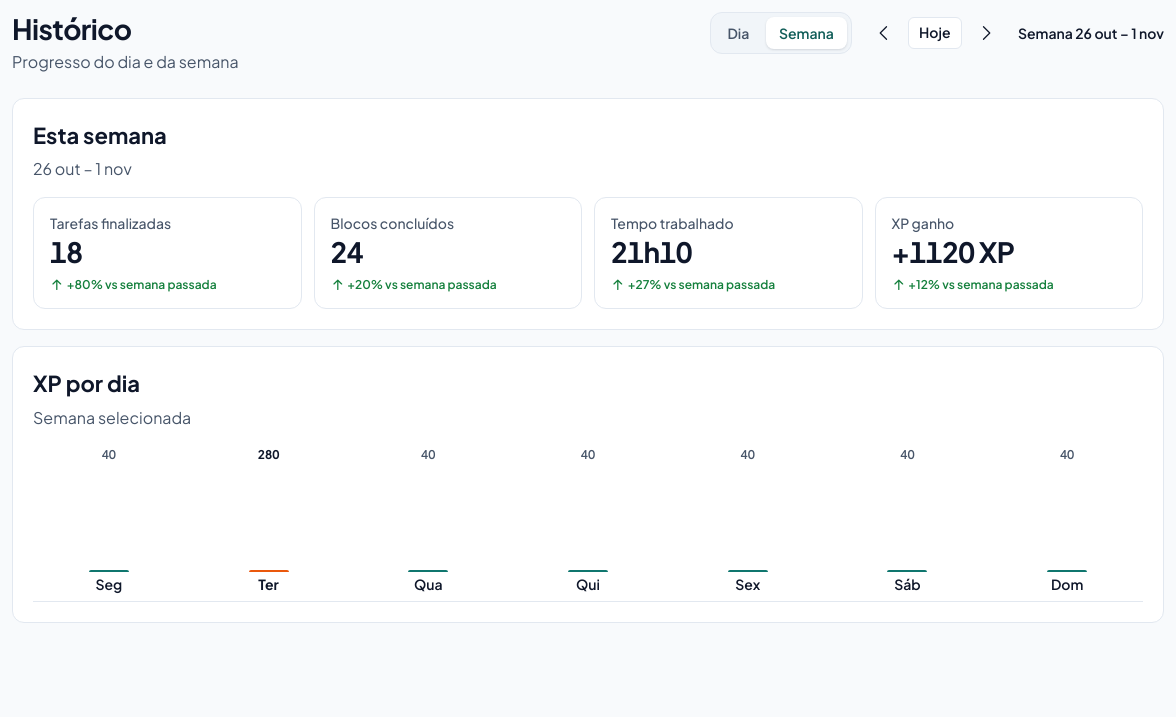
Test case: HistoricoPage (T4) › navega dia e semana com query correta
Expected: the heading "Esta semana" is shown, [33,121,167,149]
Step 1. Click the button named "semana anterior" → (884, 33), box [864,13,904,53]
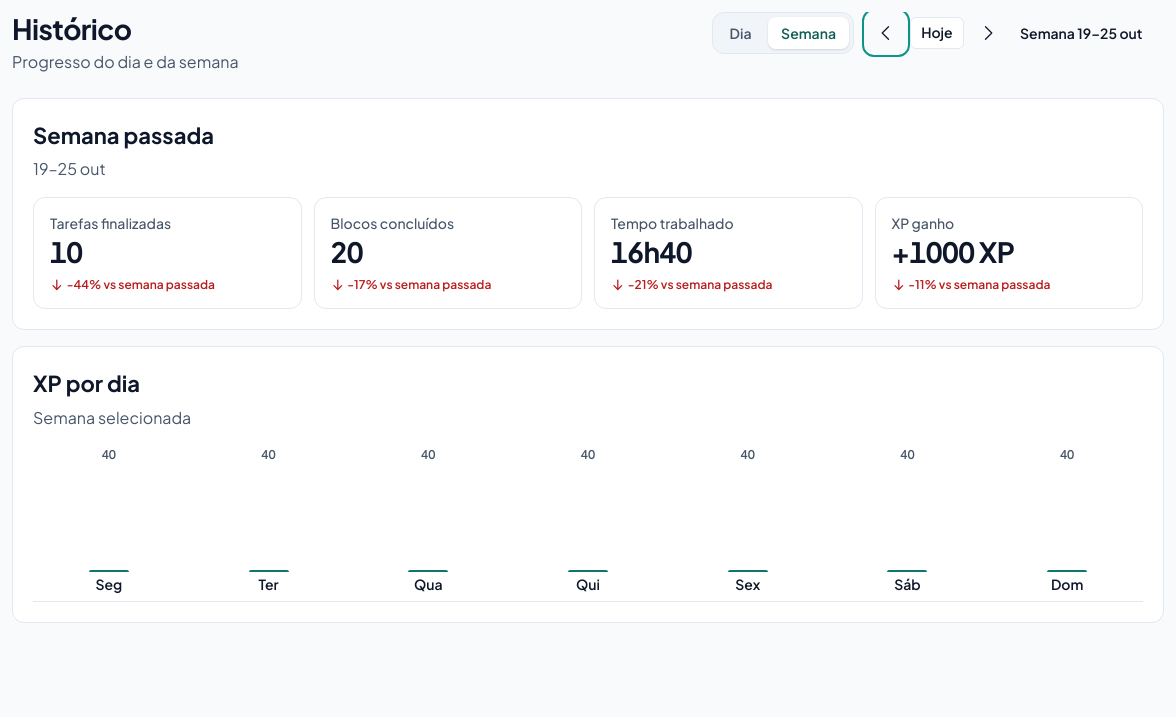
Now the heading "Semana passada" is shown, box [33,121,214,149]
Step 2. Click the radio button labelled "Dia" → (741, 33), box [717,17,764,49]
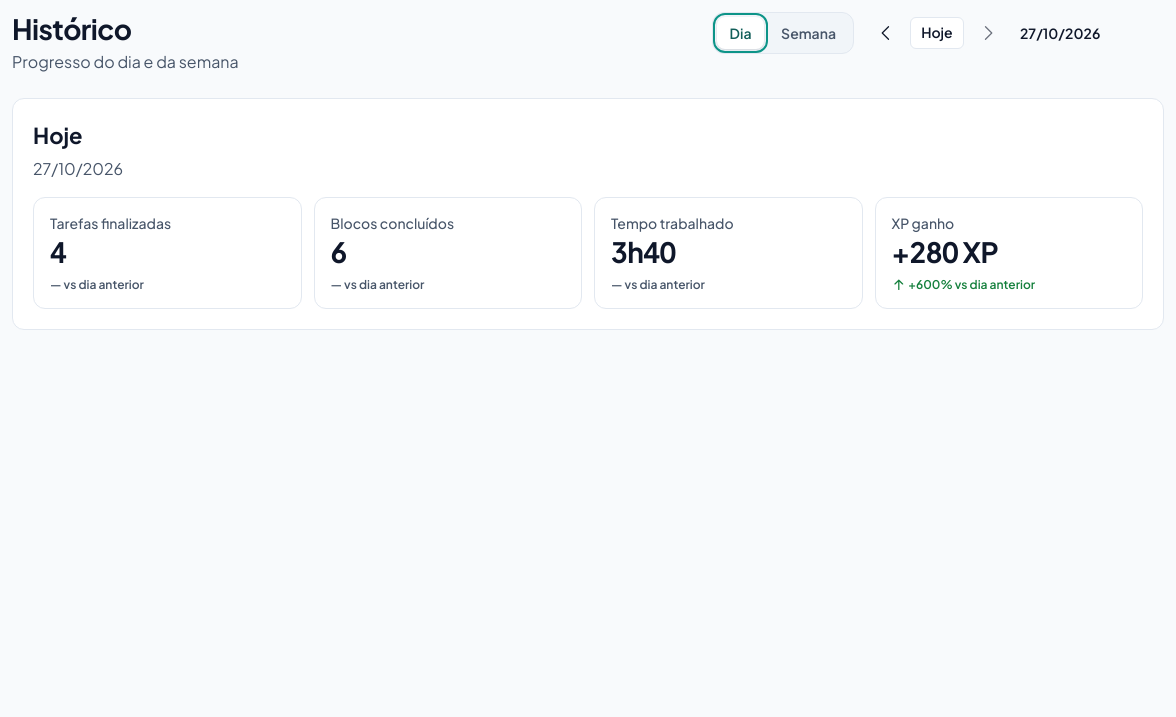
Expected: the button named "próximo dia" is disabled, [968,13,1008,53]
Now the heading "Hoje" is shown, box [33,121,82,149]
Step 3. Click the button named "dia anterior" → (886, 33), box [866,13,906,53]
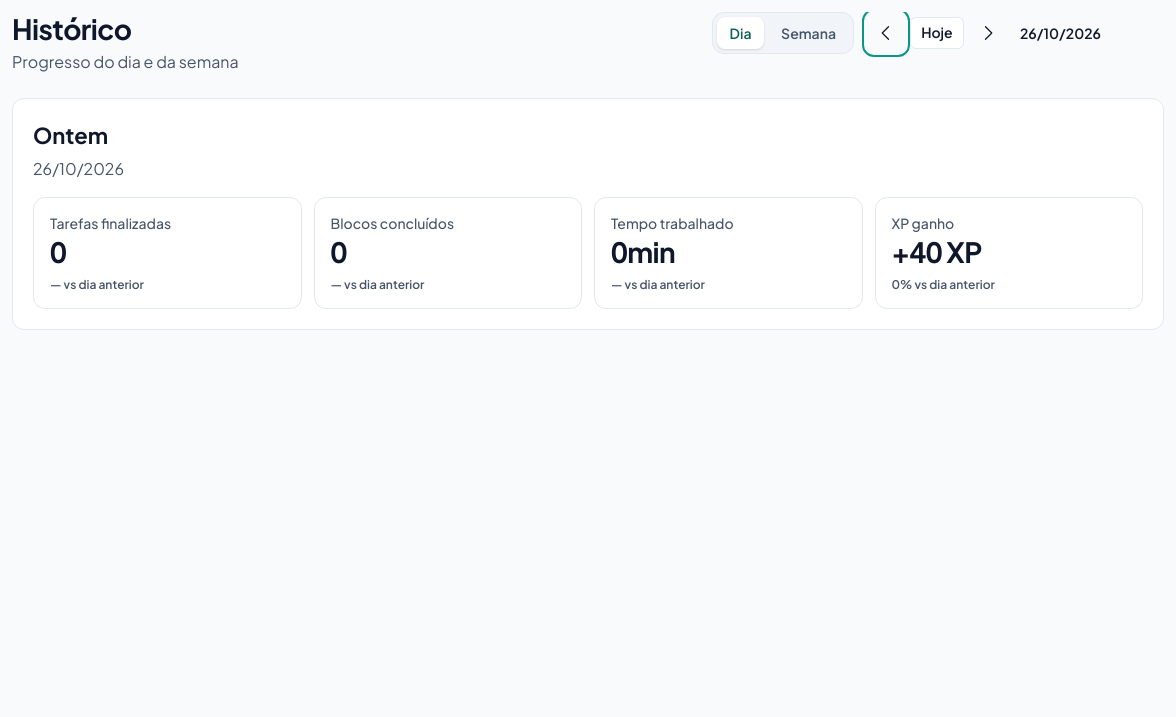
Now the heading "Ontem" is shown, box [33,121,108,149]
Step 4. Click the button "Hoje" → (937, 33), box [910,17,964,49]
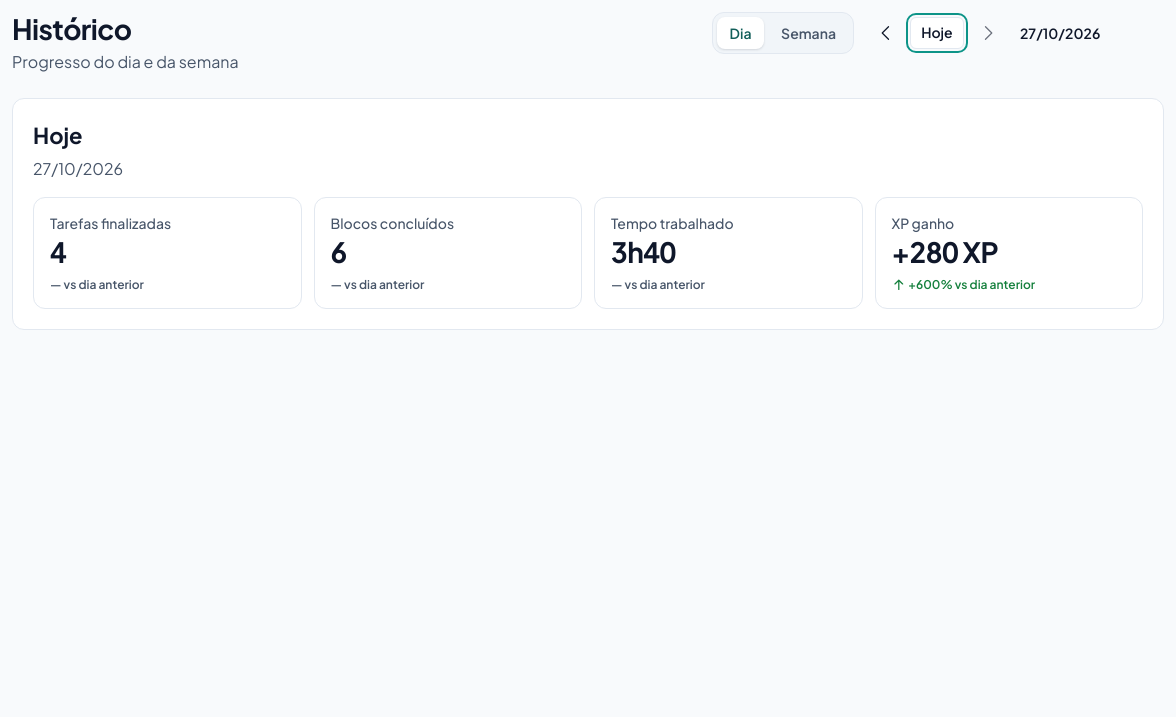
Now the heading "Hoje" is shown, box [33,121,82,149]
